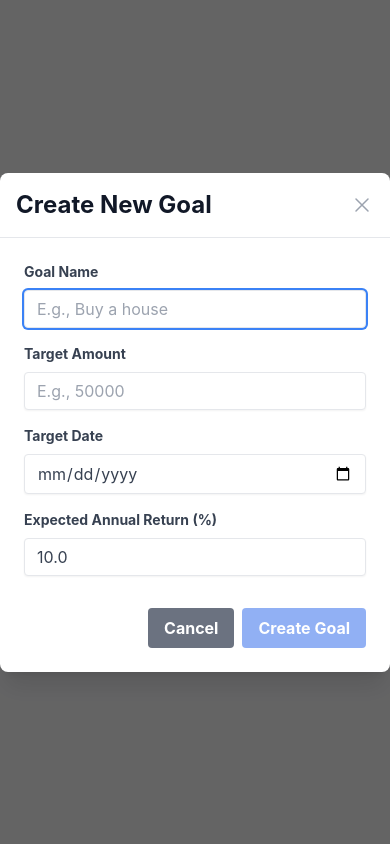
Scenario: GoalFormModal › disables save button when form is incomplete
This screenshot has width=390, height=844.
Expected: the button "Create Goal" is disabled, [242, 608, 366, 648]
Step 1. Type "Test" into the field labelled "Goal Name" → coordinates (195, 308), box [24, 290, 366, 328]
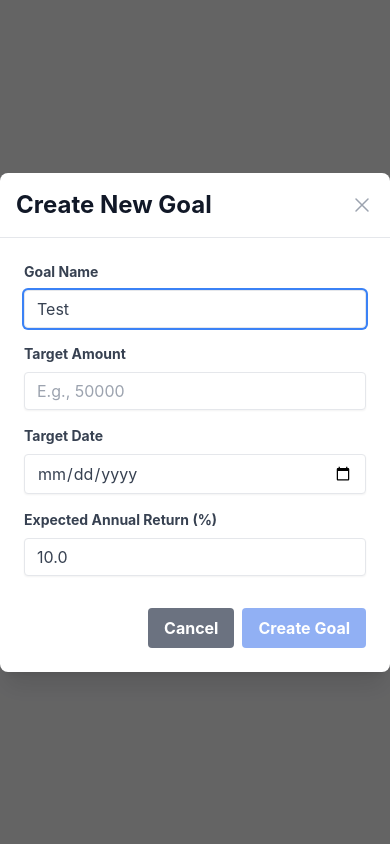
Expected: the button "Create Goal" is disabled, [242, 608, 366, 648]
Step 2. Type "1000" into the number field labelled "Target Amount" → coordinates (195, 390), box [24, 372, 366, 410]
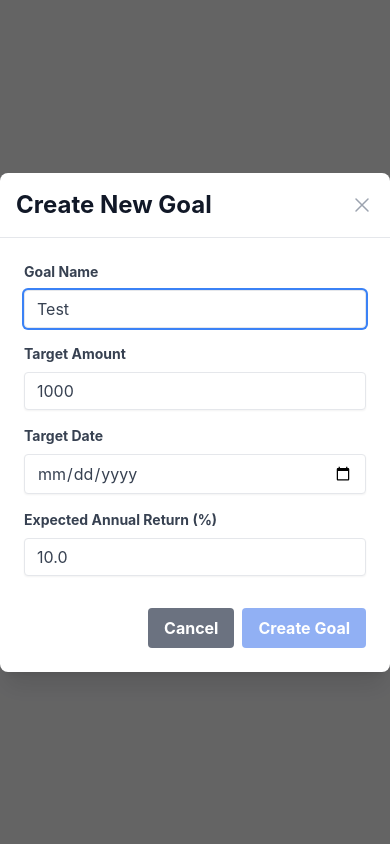
Expected: the button "Create Goal" is disabled, [242, 608, 366, 648]
Step 3. Type "2025-01-01" into the date field labelled "Target Date" → coordinates (195, 474), box [24, 454, 366, 494]
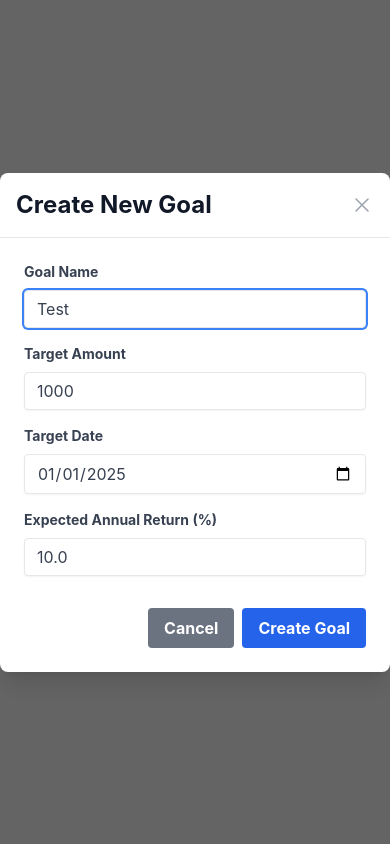
Expected: the button "Create Goal" is enabled, [242, 608, 366, 648]
